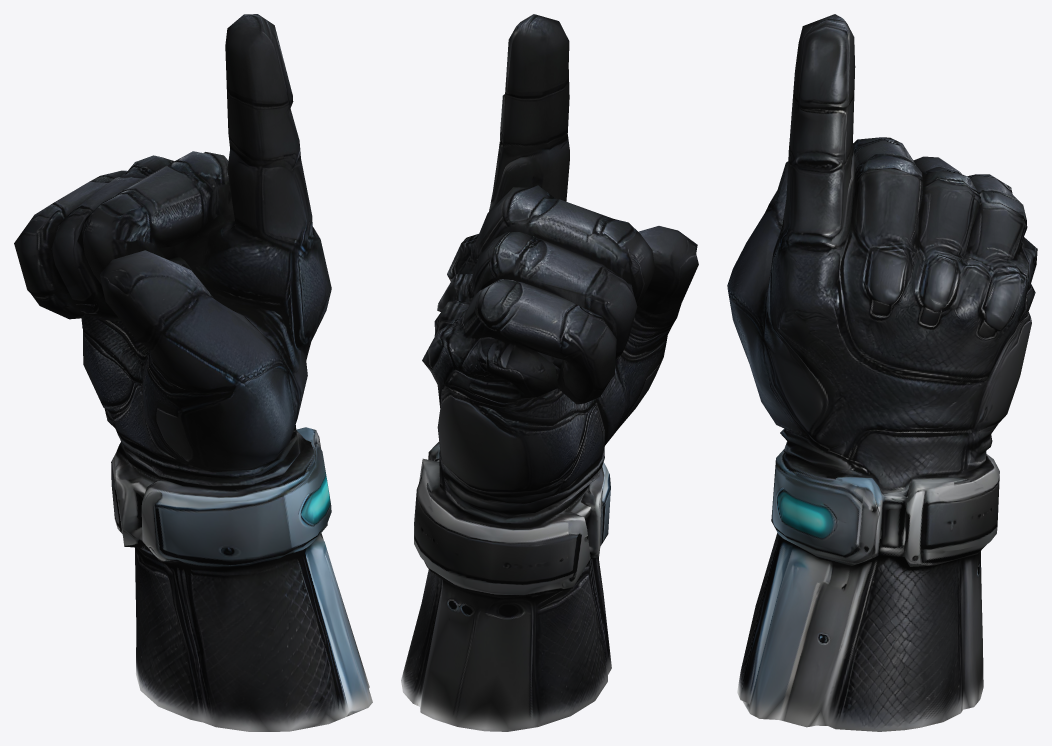
The model's file is Hand.fbx.
3 renders of one model, left to right at view 1: azimuth 30°, elevation 25°; view 2: azimuth 150°, elevation 25°; view 3: azimuth 270°, elevation 25°, orthographic. The views are drawn at different scales.
Visible parts, largest first — view 1: meshes[0]; view 2: meshes[0]; view 3: meshes[0].
Part boxes in pixels (x1=…): meshes[0]: x1=14, y1=14, x2=372, y2=731; meshes[0]: x1=401, y1=14, x2=698, y2=731; meshes[0]: x1=727, y1=14, x2=1037, y2=731.
Bounding box in the file's own units: 0.4014 × 1 × 0.4215.
Materials: 1 (1 with a texture image).
